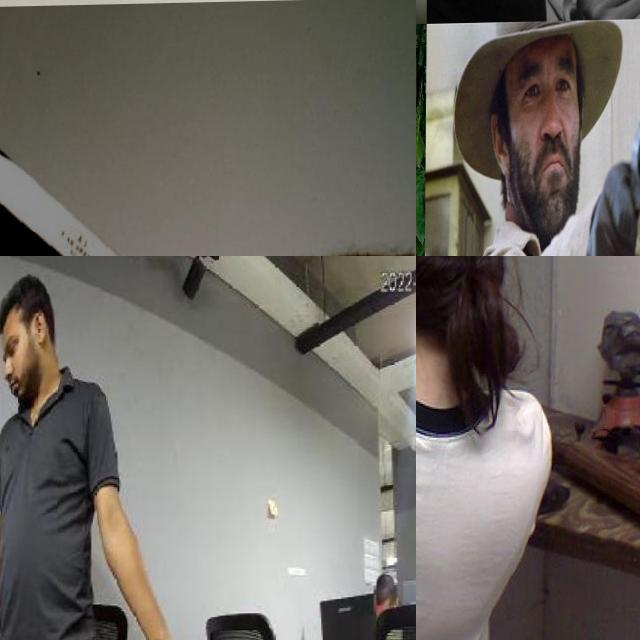-: (0, 0, 416, 256)
gun-knife-thesis - v11 Yolov5 augmented: (595, 110, 640, 256), (548, 0, 640, 65), (416, 0, 478, 80), (416, 98, 438, 196), (416, 256, 436, 314)
